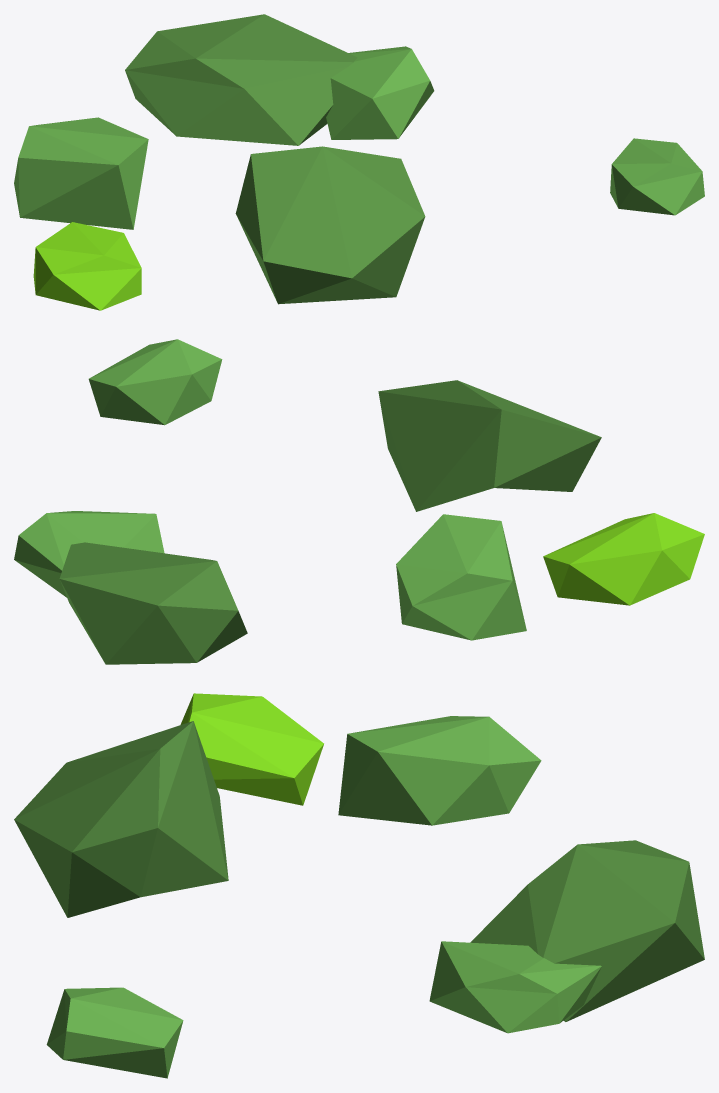
File: Gem_BOSS_rock.FBX
3 views of the same model, one above another, from view 1: azimuth 30°, elevation 25°; view 2: azimuth 150°, elevation 25°; view 3: azimuth 270°, elevation 25° (orthographic). The views are drawn at different scales.
Visible parts, largest first — view 1: Gem_BOSS_rock; view 2: Gem_BOSS_rock; view 3: Gem_BOSS_rock.
Part boxes in pixels (x1=…): Gem_BOSS_rock: x1=14, y1=14, x2=704, y2=310; Gem_BOSS_rock: x1=14, y1=339, x2=704, y2=664; Gem_BOSS_rock: x1=14, y1=693, x2=704, y2=1078.
Size of the model in its own units: 56.66 by 12.15 by 47.72.
